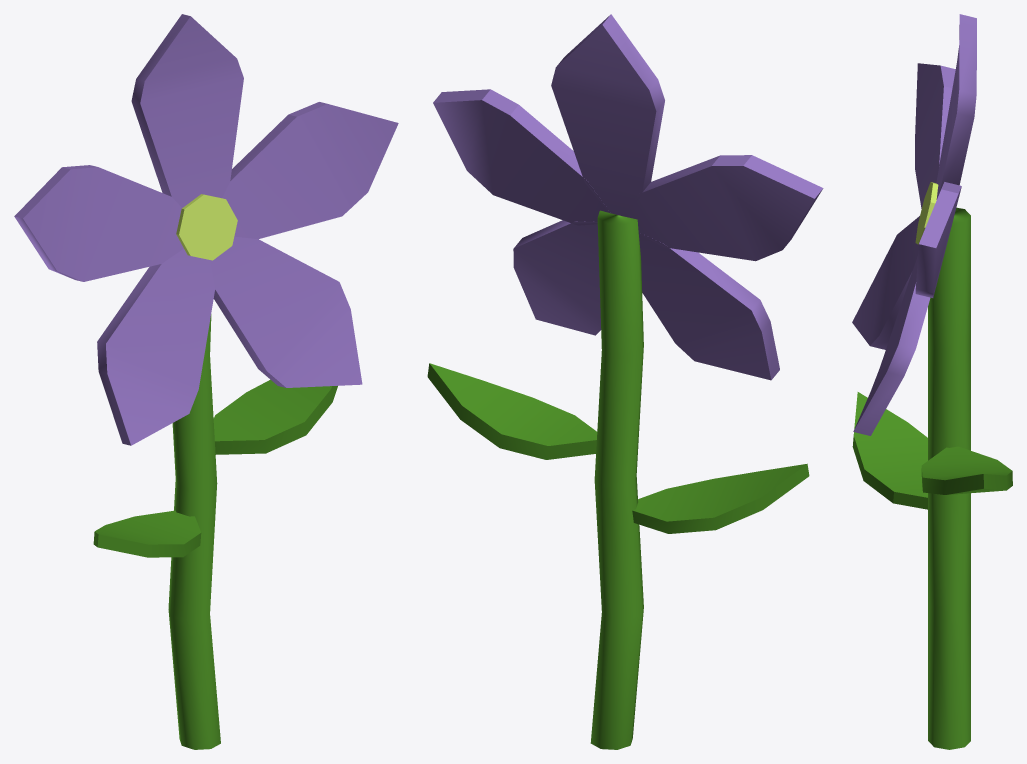
The model's file is Flower_Purple_6.fbx.
3 renders of one model, left to right at view 1: azimuth 30°, elevation 25°; view 2: azimuth 150°, elevation 25°; view 3: azimuth 270°, elevation 25°, orthographic.
Parts seen in each view (by area): view 1: Cube.106, Cylinder.634, Plane.201, Plane.200, Cylinder.637; view 2: Cube.106, Cylinder.634, Plane.201, Plane.200; view 3: Cylinder.634, Cube.106, Plane.200, Plane.201, Cylinder.637.
Part boxes in pixels (x1,y1,x2,y2): Cube.106: (14,14,398,445); Cylinder.634: (168,314,220,749); Plane.201: (213,379,337,454); Plane.200: (93,510,201,557); Cylinder.637: (176,194,237,260); Cube.106: (433,14,823,380); Cylinder.634: (590,210,643,749); Plane.201: (427,363,597,459); Plane.200: (632,463,809,533); Cylinder.634: (928,207,970,749); Cube.106: (852,14,976,435); Plane.200: (852,392,927,509); Plane.201: (921,446,1012,494); Cylinder.637: (915,182,938,244).
Bounding box in the file's own units: 71.56 × 131 × 26.41.
